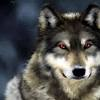Lobo: (19, 1, 98, 94)
